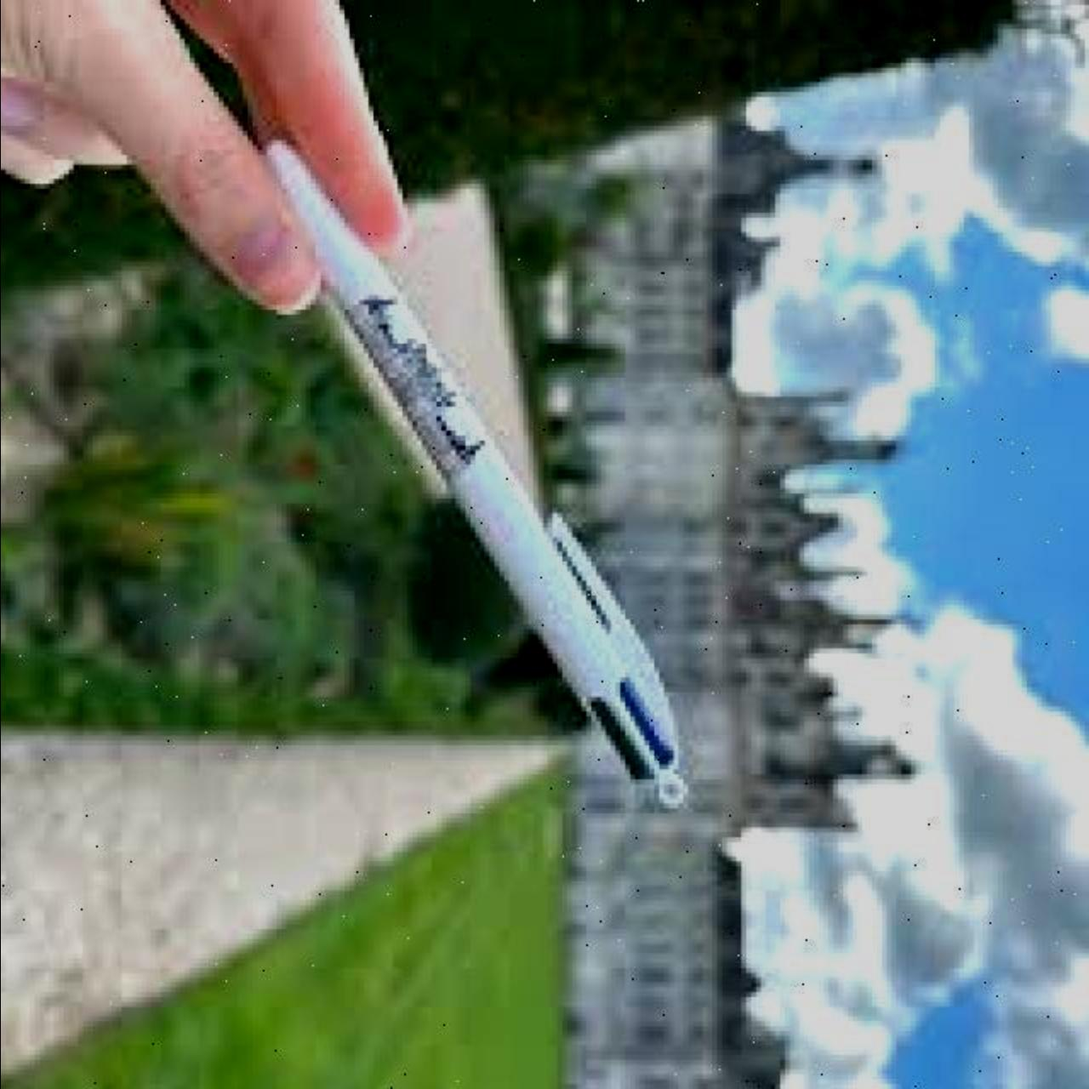pen: (252, 126, 698, 808)
